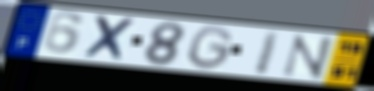6: (42, 10, 87, 59)
8: (143, 21, 187, 67)
G: (186, 25, 236, 71)
I: (252, 29, 283, 76)
N: (279, 33, 337, 81)
X: (81, 15, 138, 64)
